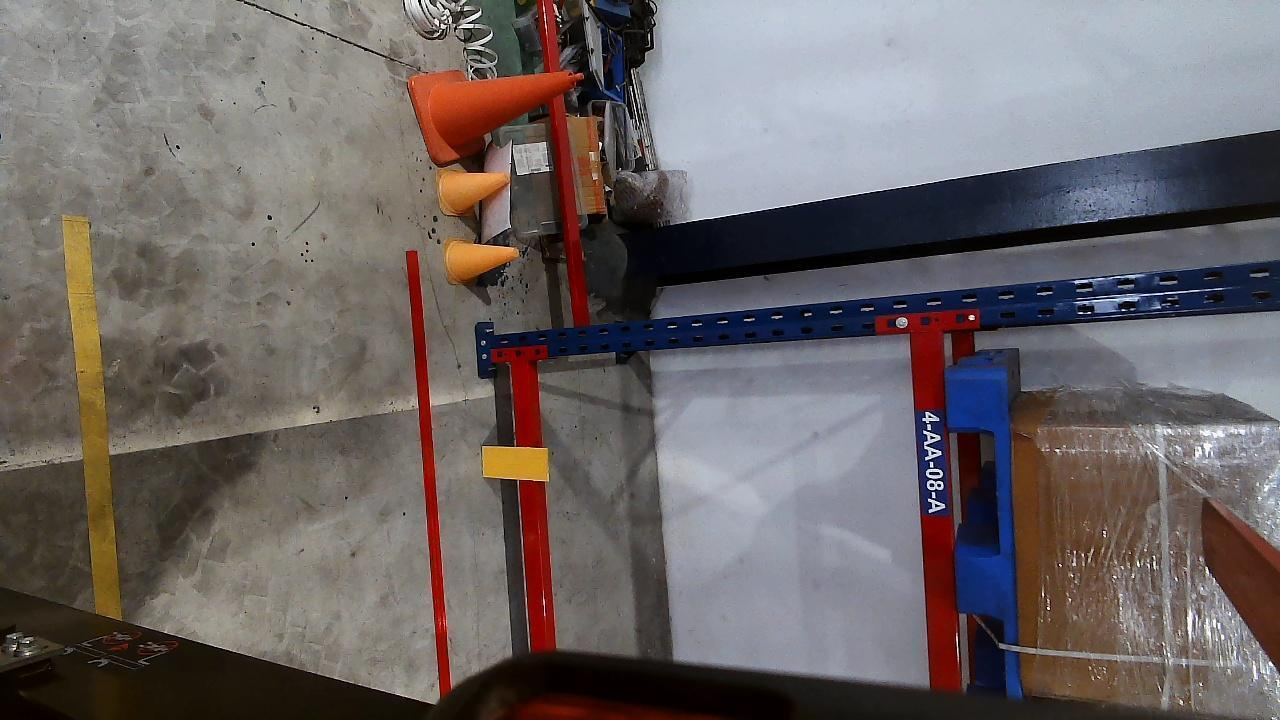red_line: (409, 249, 452, 692)
yellow_line: (58, 215, 120, 619)
